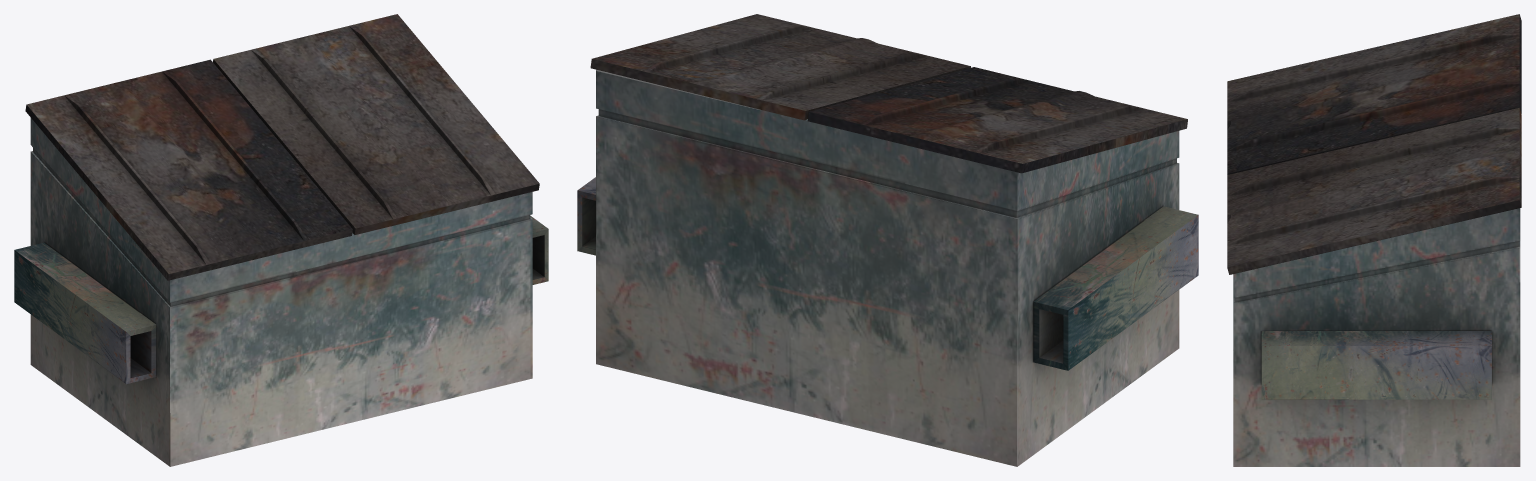
File: Dumpster.fbx
3 views of the same model, side by side, from view 1: azimuth 30°, elevation 25°; view 2: azimuth 150°, elevation 25°; view 3: azimuth 270°, elevation 25° (orthographic). The views are drawn at different scales.
Visible parts, largest first — view 1: polySurface25, polySurface24, polySurface23; view 2: polySurface25, polySurface24, polySurface23; view 3: polySurface25, polySurface23, polySurface24.
Boxes of the visible parts, box(x1,y1,x2,y2) form: polySurface25: box(14, 118, 548, 466); polySurface24: box(25, 59, 352, 280); polySurface23: box(213, 14, 539, 234); polySurface25: box(577, 69, 1198, 466); polySurface24: box(807, 67, 1187, 173); polySurface23: box(590, 14, 970, 120); polySurface25: box(1233, 208, 1520, 466); polySurface23: box(1227, 108, 1521, 274); polySurface24: box(1227, 14, 1521, 174).
Size of the model in its own units: 3.49 by 2.08 by 2.05.
